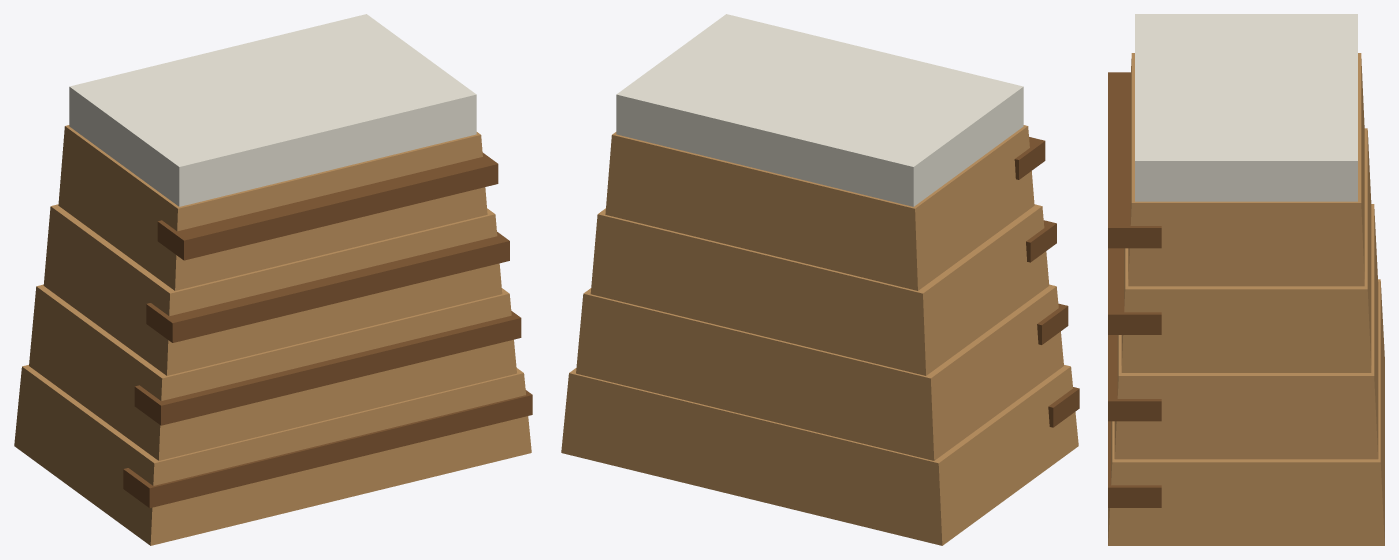
File: p_tobibako.glb
The picture shows the model from 3 angles, left to right: view 1: azimuth 30°, elevation 25°; view 2: azimuth 150°, elevation 25°; view 3: azimuth 270°, elevation 25°; orthographic projection.
Parts seen in each view (by area): view 1: tobibako; view 2: tobibako; view 3: tobibako.
Part boxes in pixels (bbox=[...]): tobibako: bbox=[14, 14, 532, 545]; tobibako: bbox=[561, 14, 1079, 545]; tobibako: bbox=[1108, 14, 1384, 545].
Bounding box in the file's own units: 1 × 0.9 × 0.62.
